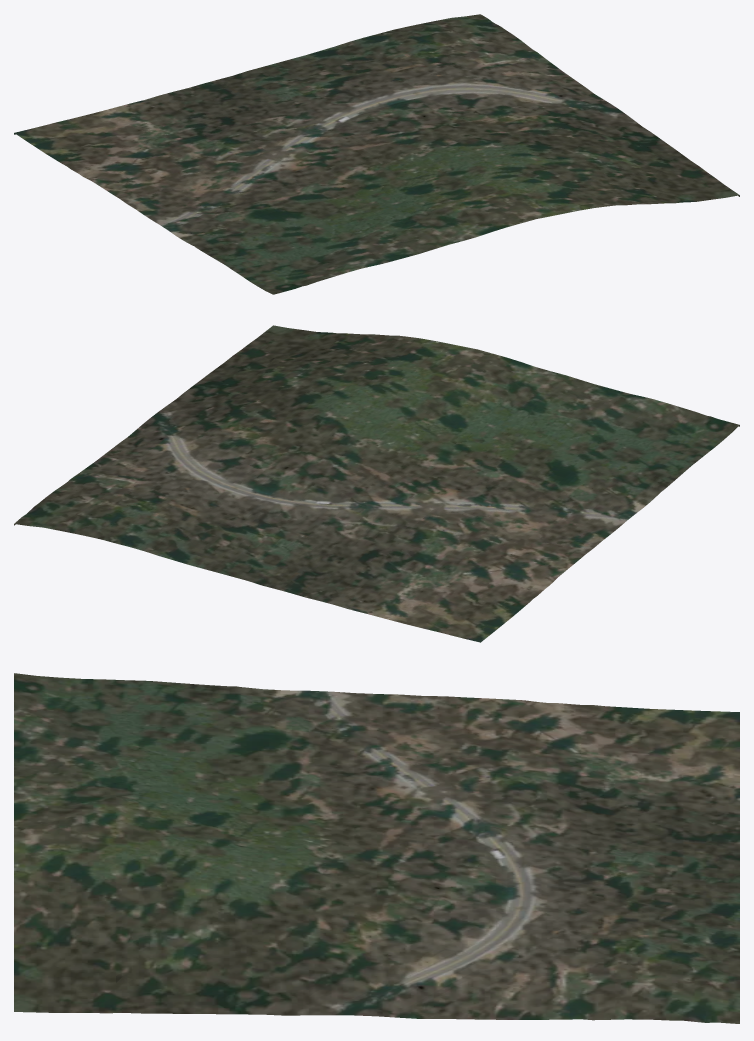
3 renders of one model, top to bottom at view 1: azimuth 30°, elevation 25°; view 2: azimuth 150°, elevation 25°; view 3: azimuth 270°, elevation 25°, orthographic. The views are drawn at different scales.
Size of the model in its own units: 250 by 21.33 by 241.
Materials: 1 (1 with a texture image).
